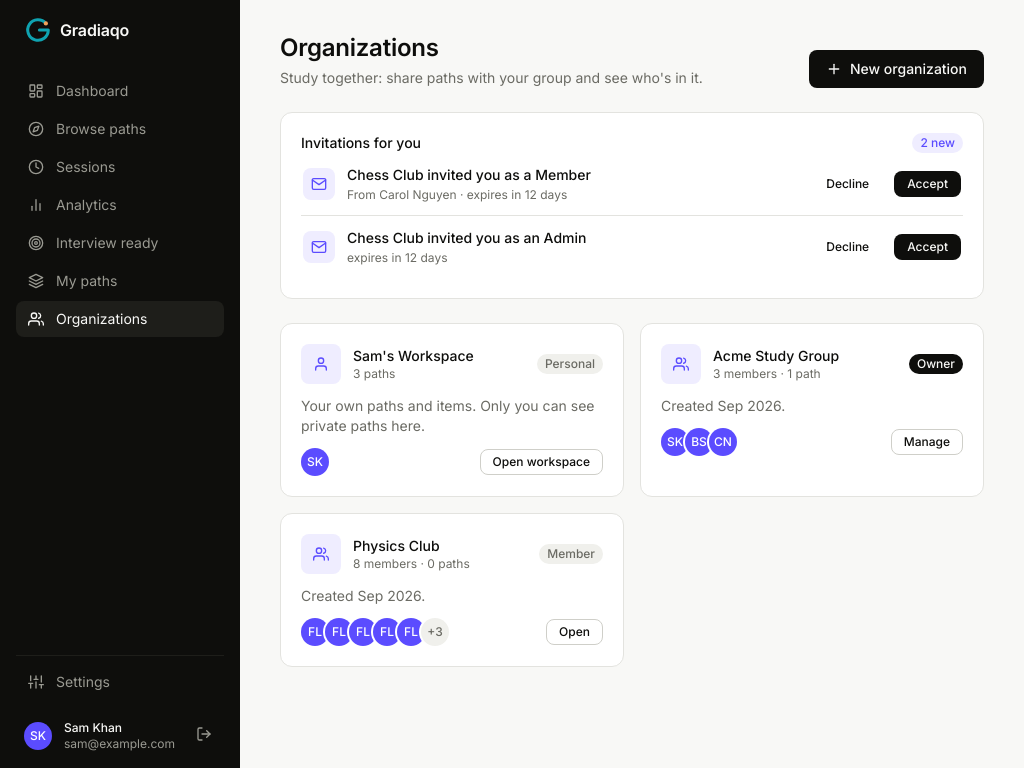
Test: OrganizationsPage › shows invitations for the user, to accept or decline
Expected: the element "Invitations for you" shows "2 new", [920,135,955,150]
What coordinates should you click on to do the following:
click the button "Accept" in the row of "Chess Club invited you as a Member"
I would click on:
 (928, 184)
Its box is [894,171,961,197].
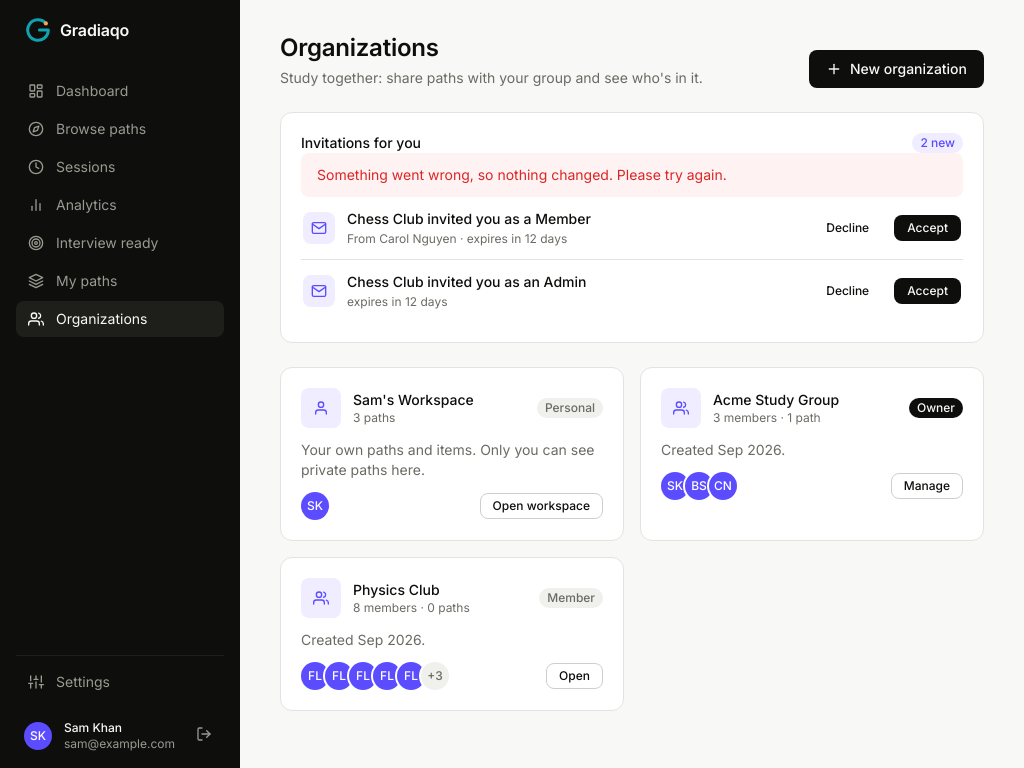
Expected: the message shows "Something went wrong, so nothing changed.", [317,166,727,183]
What coordinates should you click on to do the following:
click the button "Accept" in the row of "Chess Club invited you as a Member"
I would click on:
 (928, 228)
Its box is [894,215,961,241].
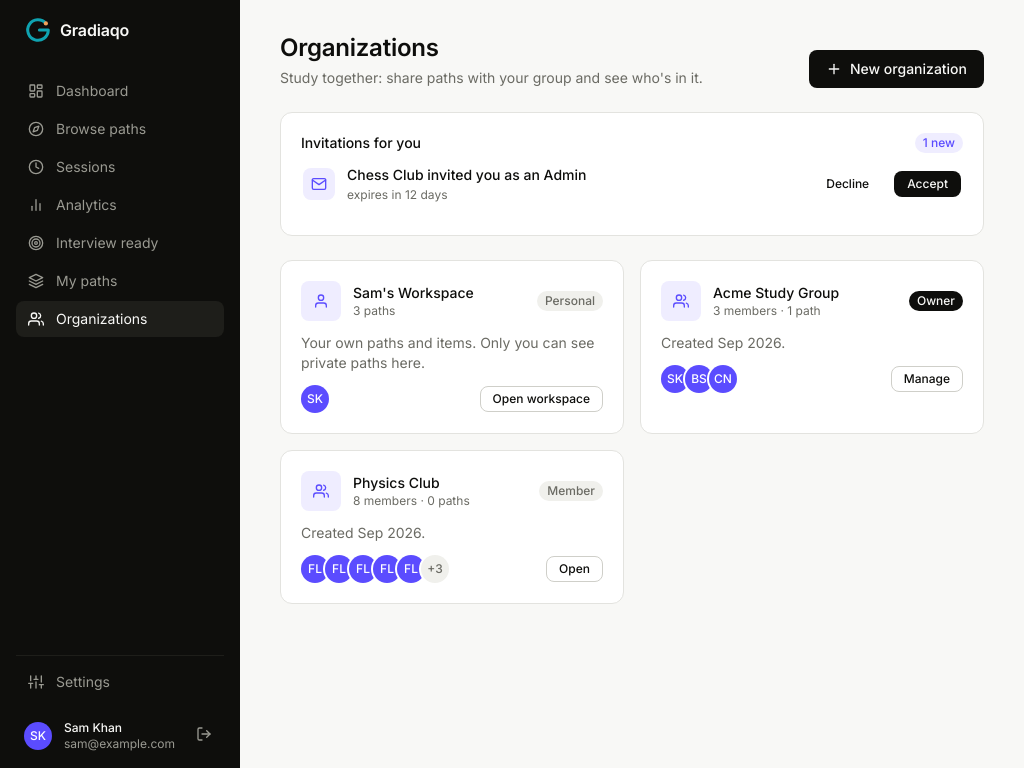
What coordinates should you click on to do the following:
click the button "Decline"
I would click on:
 (848, 184)
Its box is [813,171,882,197].
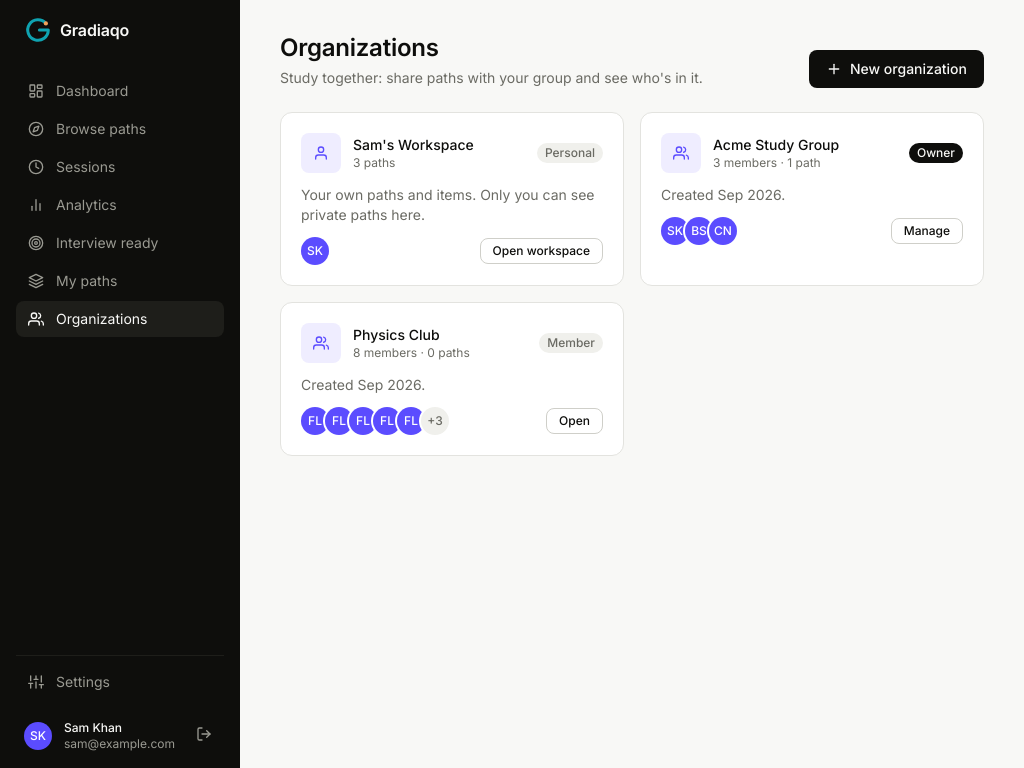
Expected: the heading "Invitations for you" is gone
